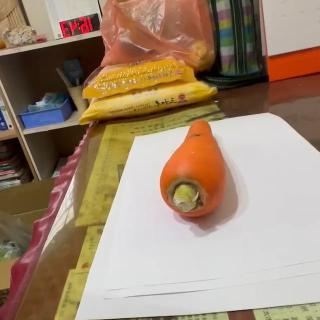carrot: (158, 119, 228, 222)
